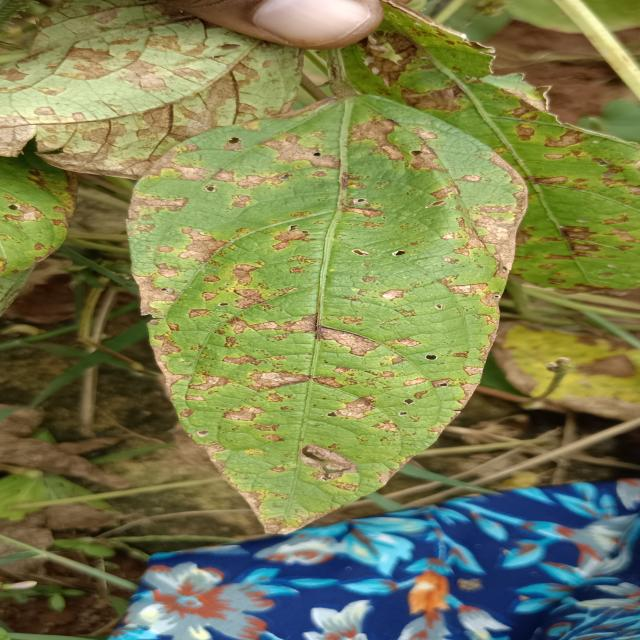Black gram_leaf spot: (112, 76, 529, 544), (314, 8, 640, 300), (4, 0, 311, 168)
